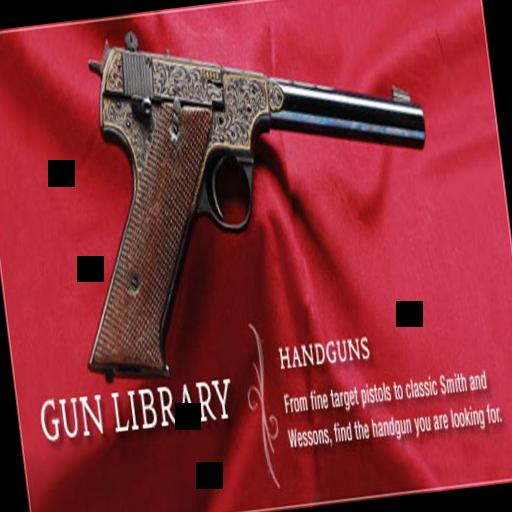Handgun: (37, 0, 451, 384)
